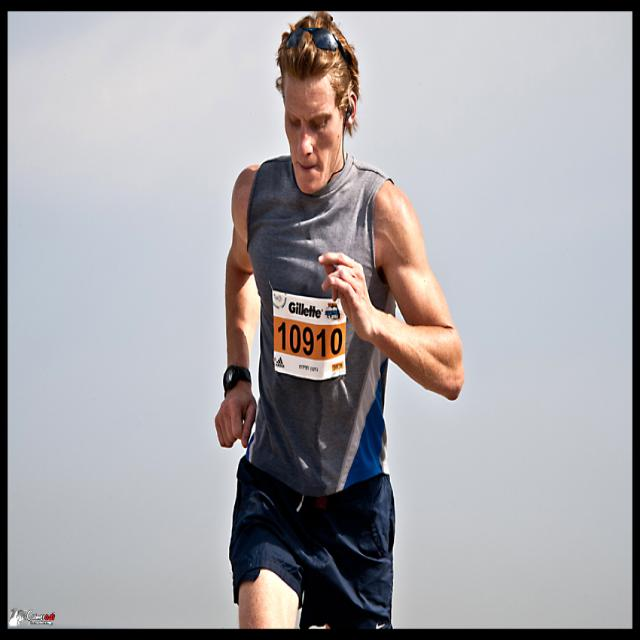Bib: (273, 317, 342, 360)
